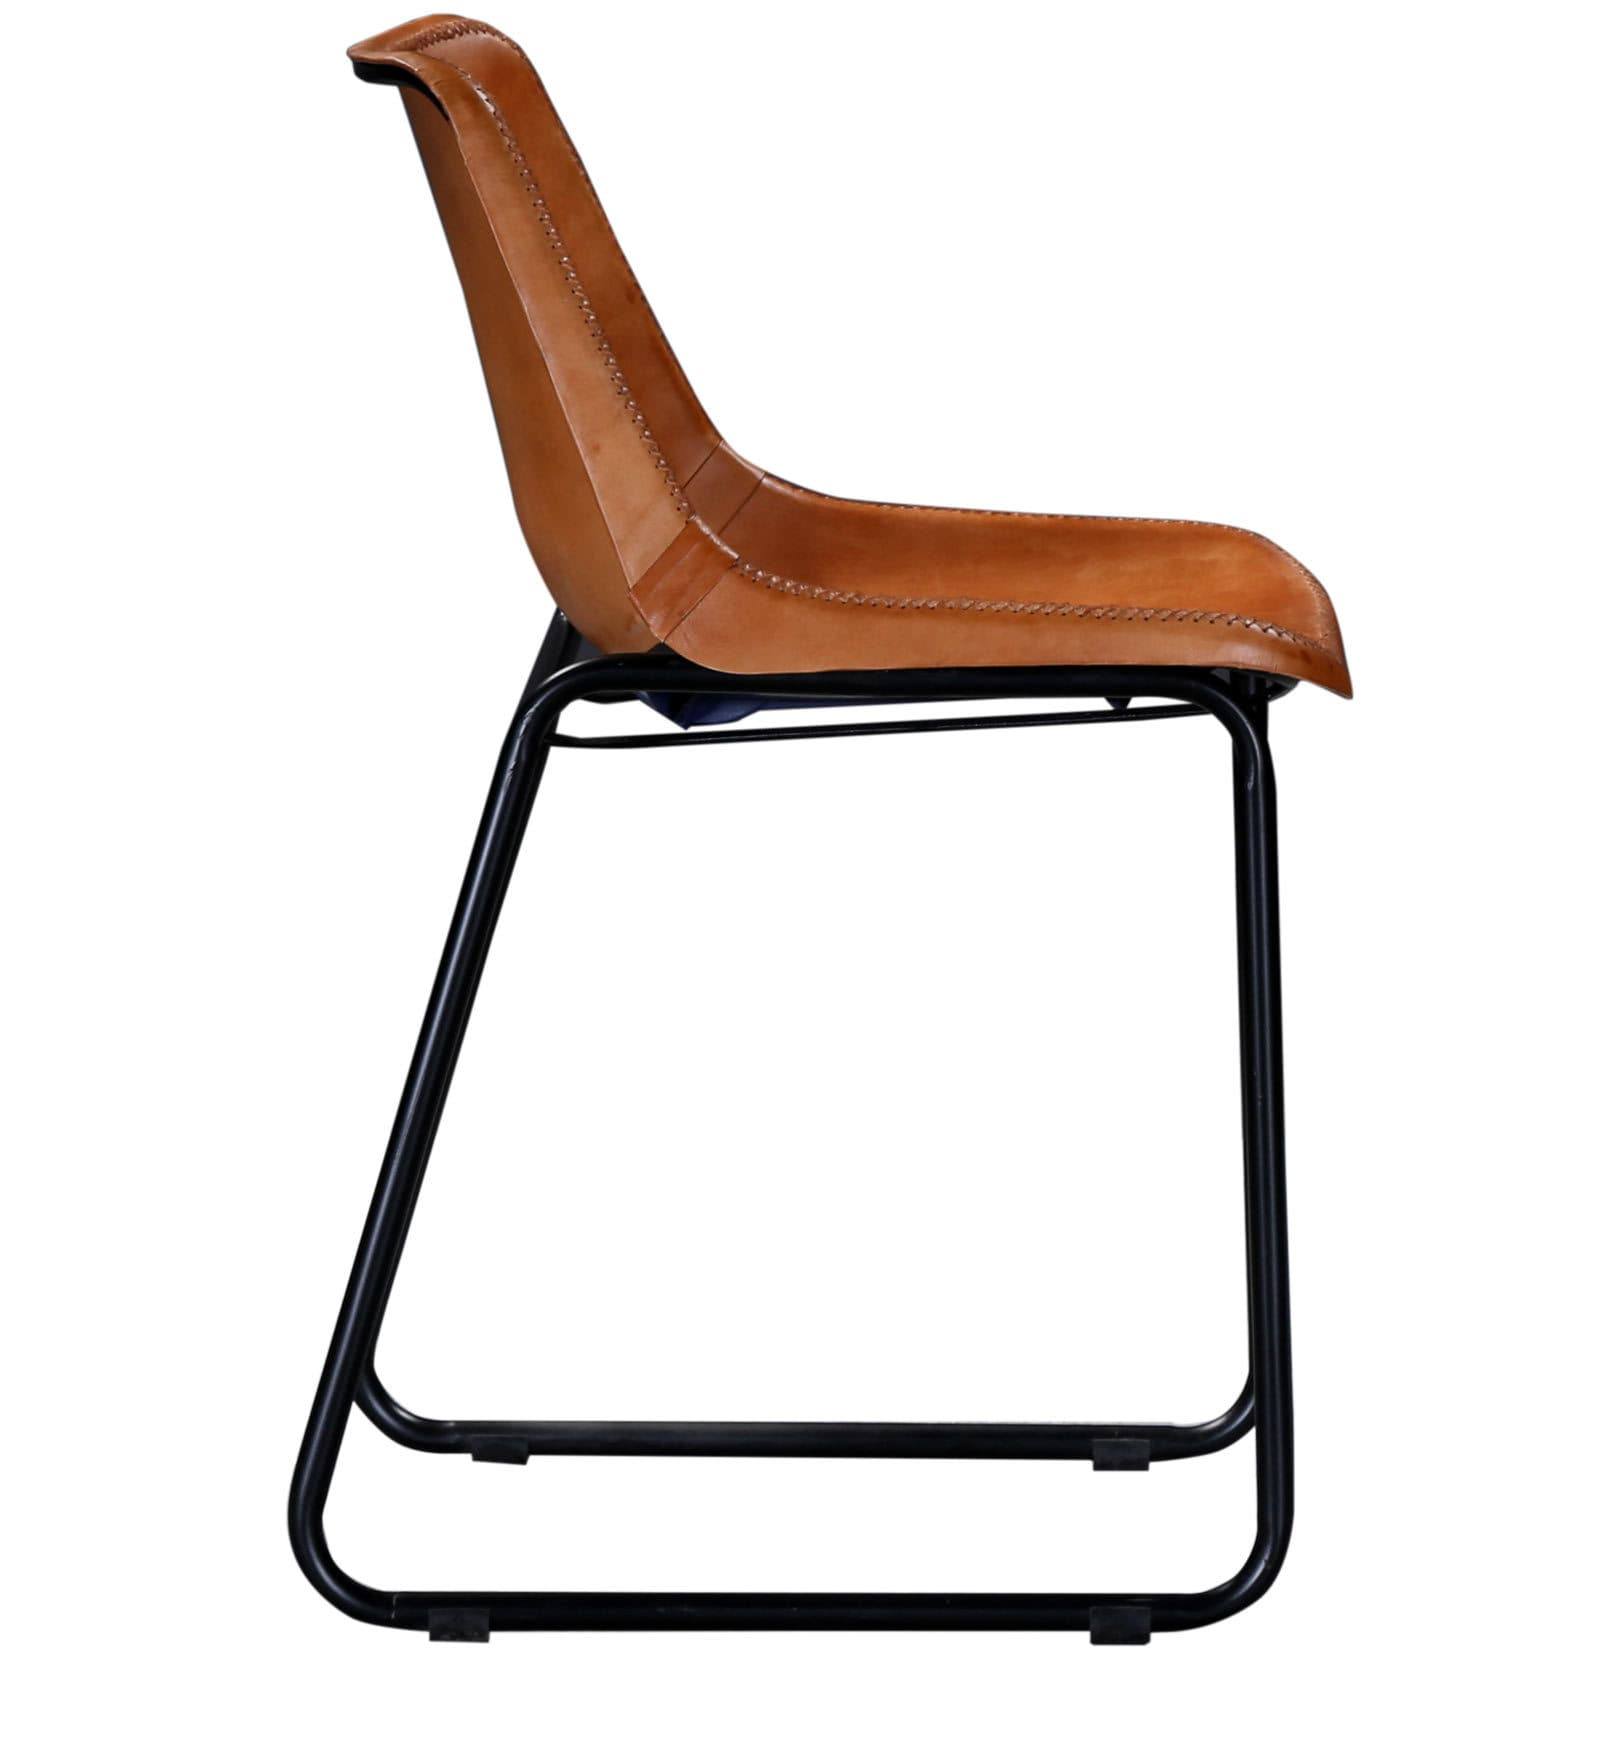Medina Natural Color Leather Accent Chair by Bohemiana: (251, 5, 1353, 1680)
